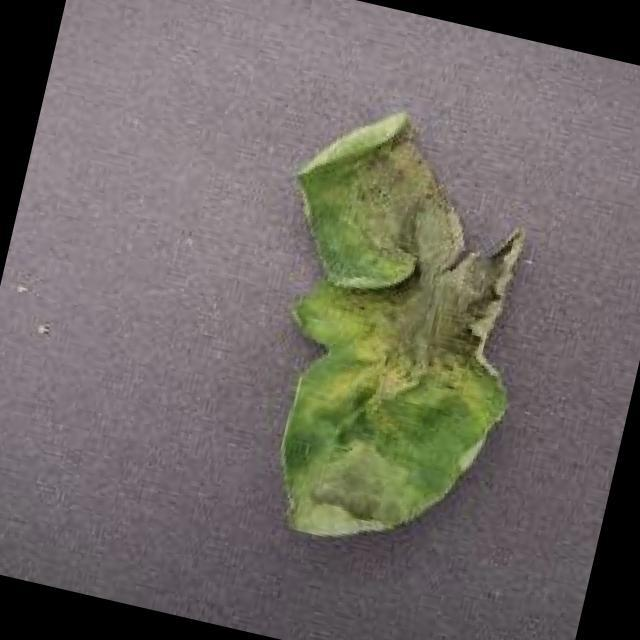Tomato late blight leaf: (215, 89, 570, 576)
